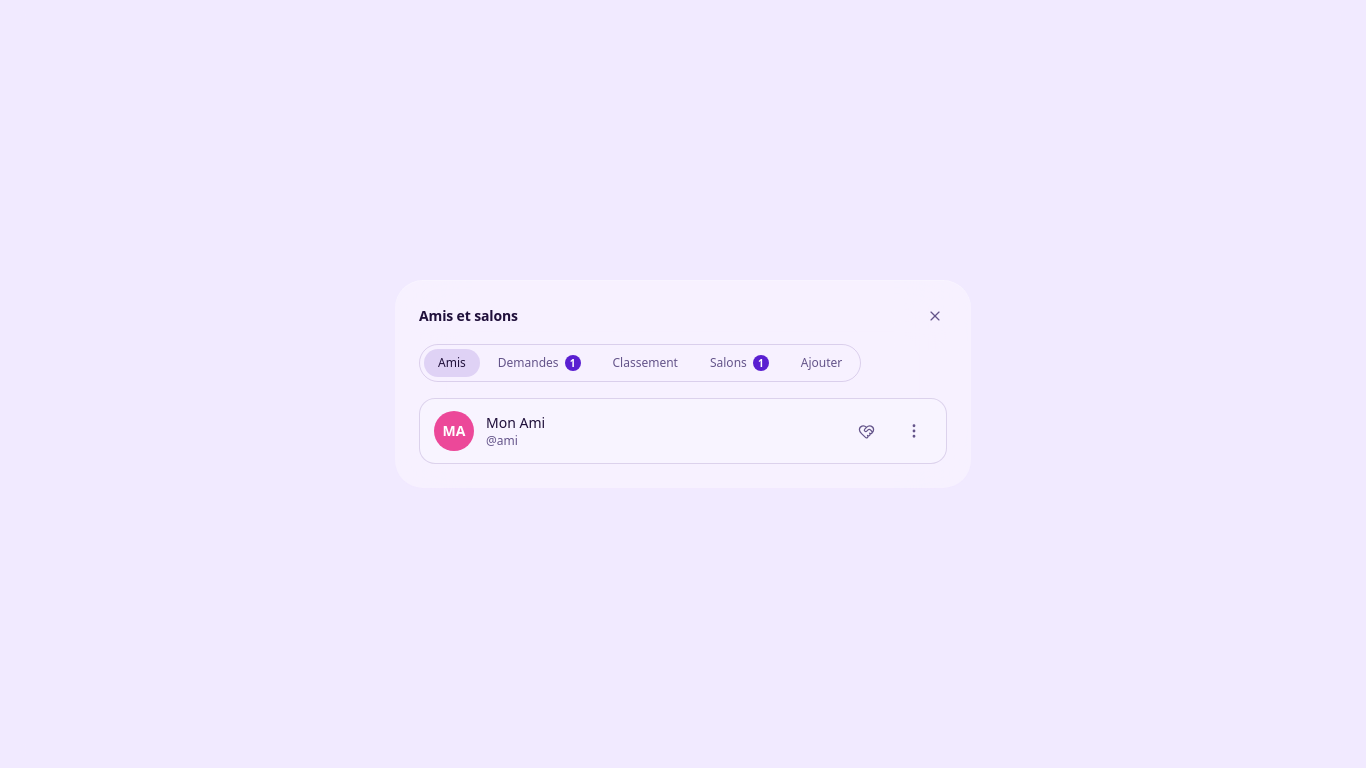
Scenario: SocialPanel — point d’entrée social unique (LOT H2, §1) › l’onglet « Salons » > « Créer » affiche le formulaire de création
Click the tab "Salons 1".
click(739, 363)  # box [696,349,783,377]
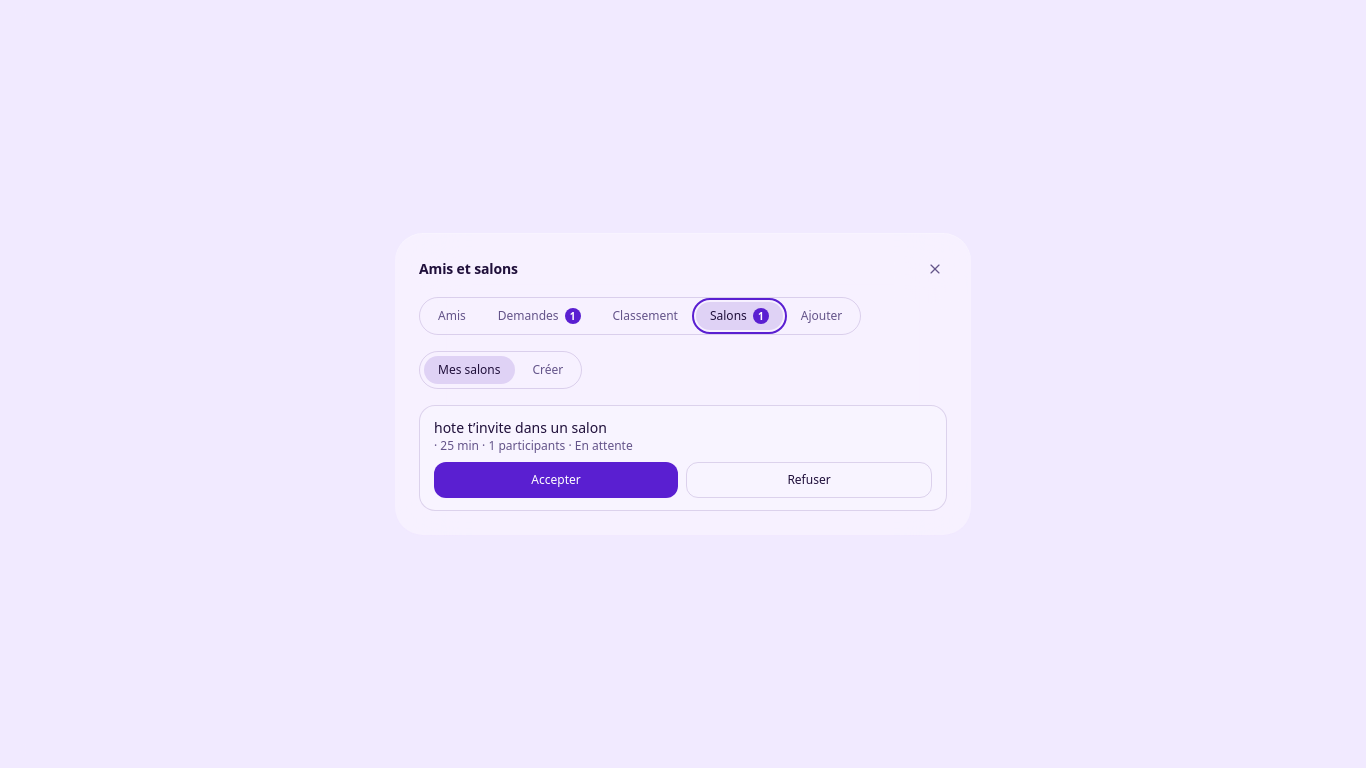
Click the tab "Créer".
click(548, 370)  # box [518,356,577,384]
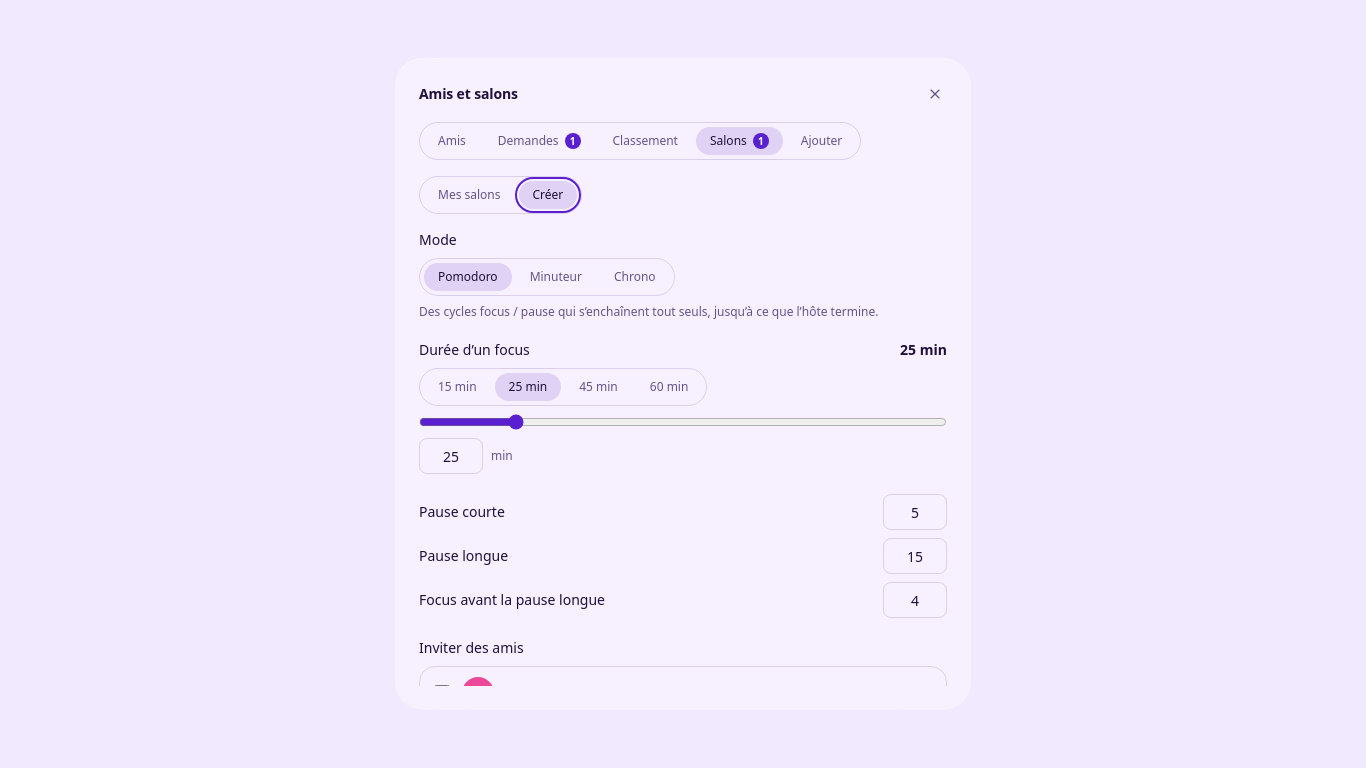
Result: the number field named "Durée exacte, en minutes" is shown at [419,438,483,474]
